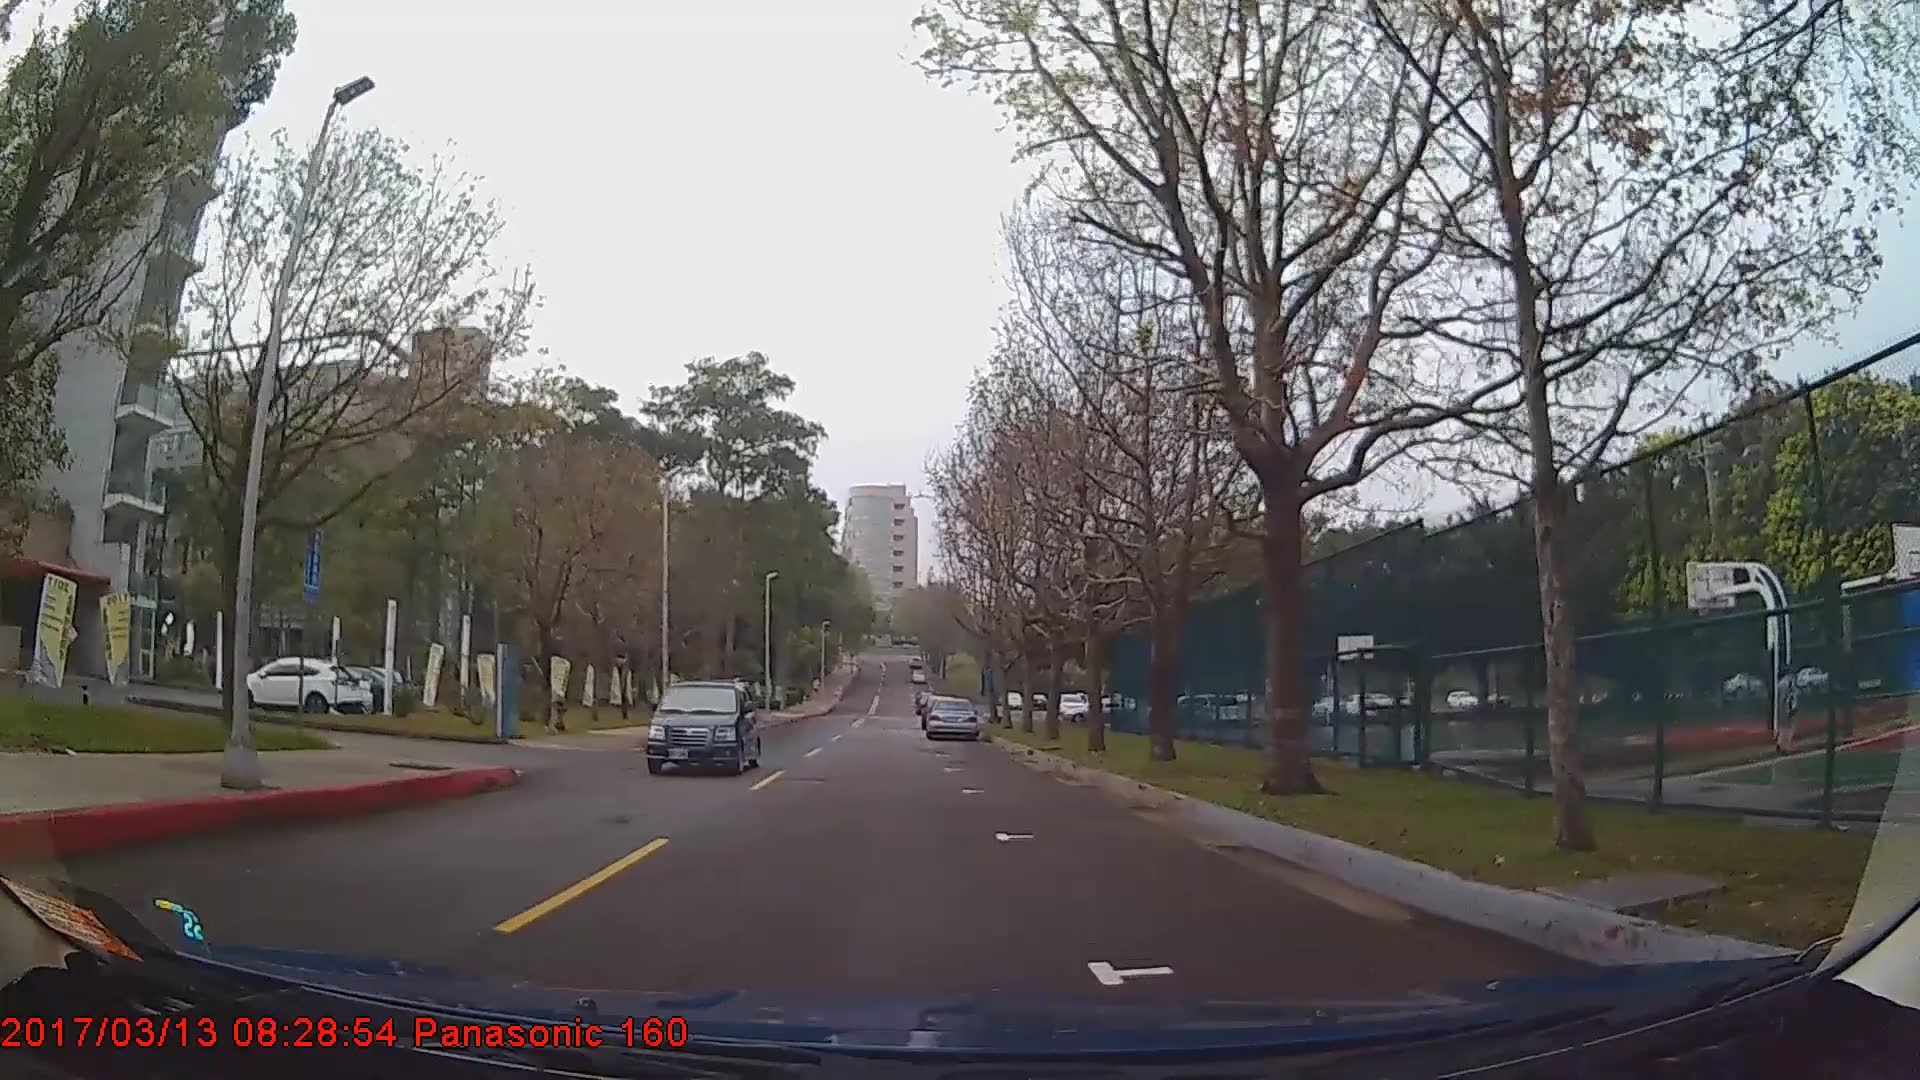vehicle: (644, 676, 762, 775), (237, 653, 363, 720), (924, 695, 978, 741)
